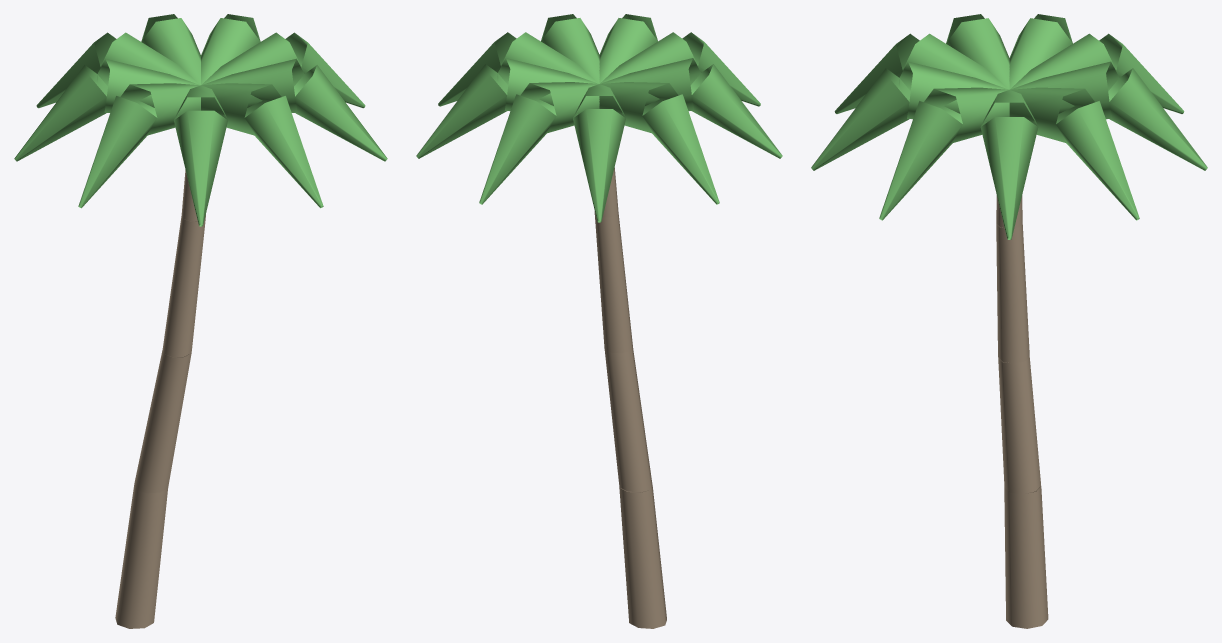
Rendered from palm_tropical.glb.
3 views of the same model, side by side, from view 1: azimuth 30°, elevation 25°; view 2: azimuth 150°, elevation 25°; view 3: azimuth 270°, elevation 25° (orthographic). The views are drawn at different scales.
Visible parts, largest first — view 1: RootNode; view 2: RootNode; view 3: RootNode.
Part boxes in pixels (box(x1,y1,x2,y2)): RootNode: box(14, 14, 387, 628); RootNode: box(416, 14, 782, 628); RootNode: box(811, 14, 1207, 628).
Size of the model in its own units: 8.79 by 14.66 by 8.93.
